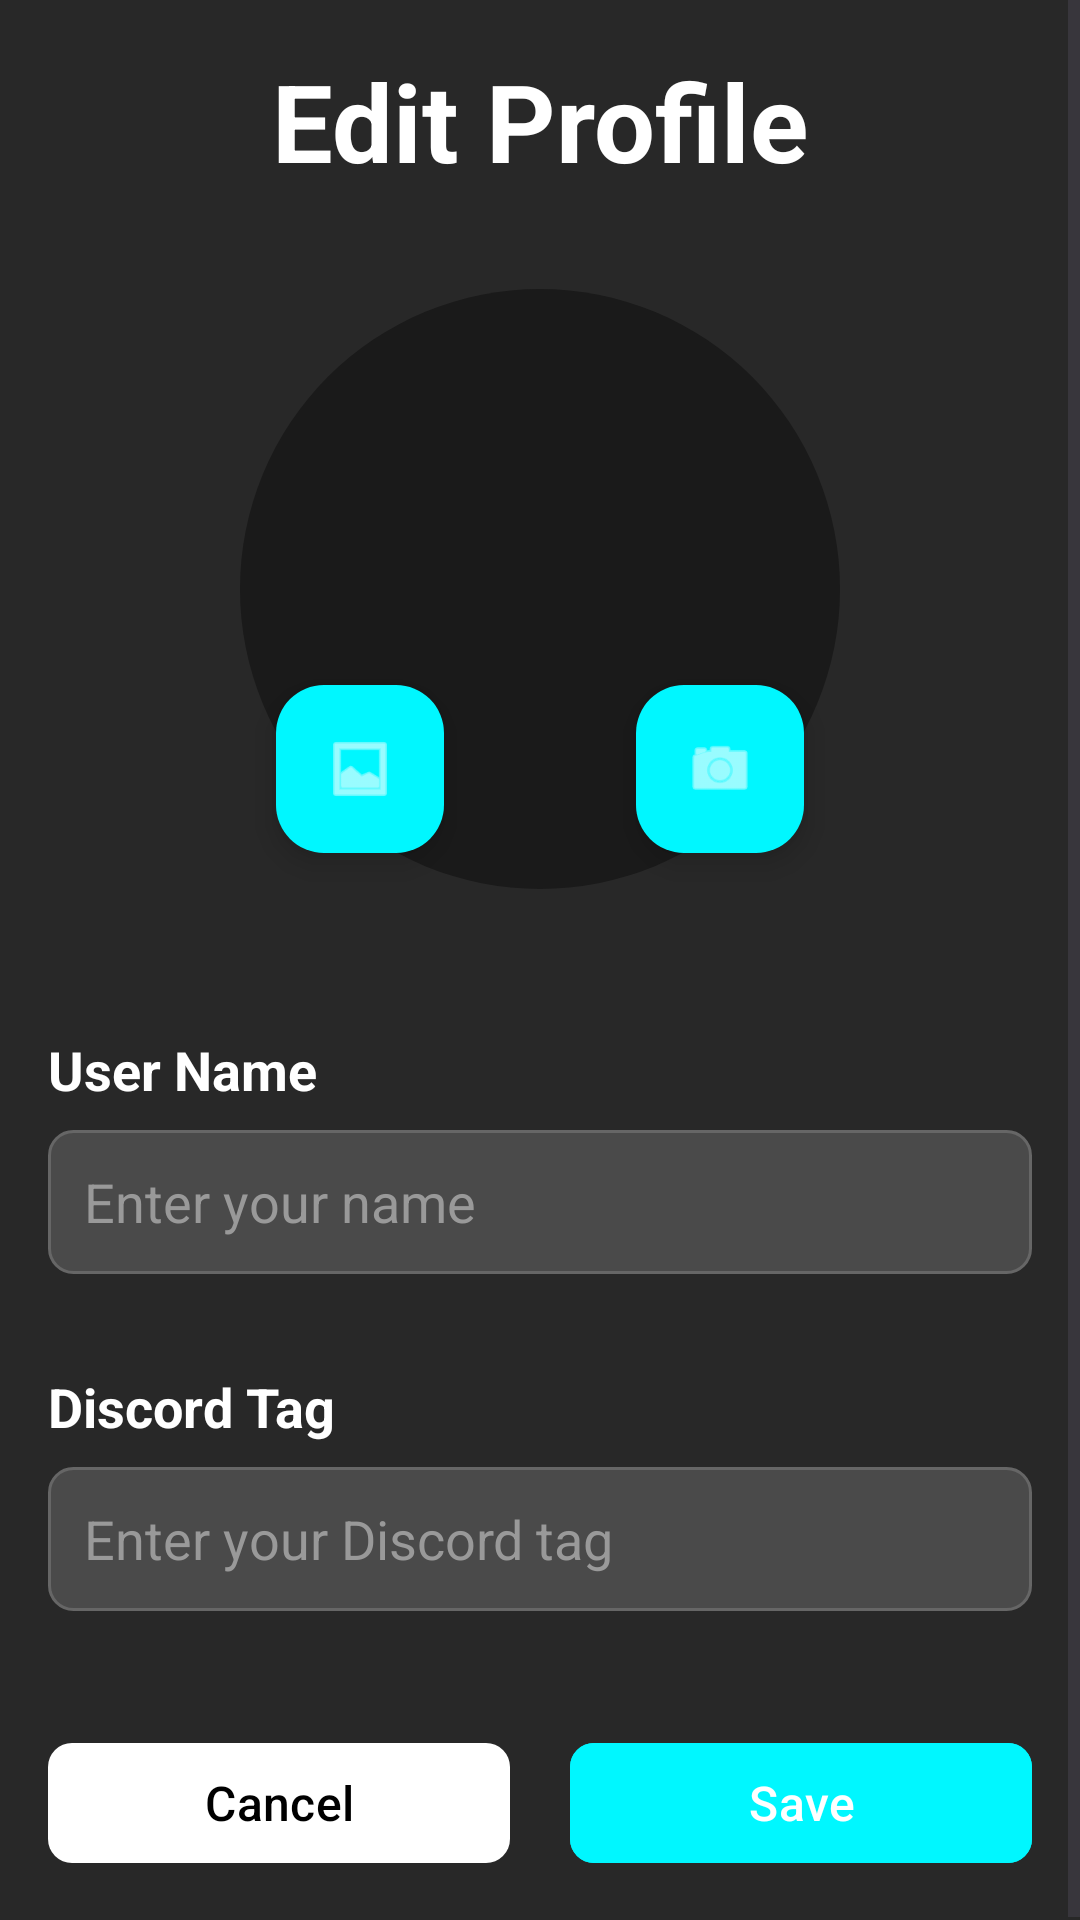

Icon bounding boxes for this 1080*1920 phone screenshot, format detection(x1, y1, x2, y2):
Camera: detection(636, 685, 804, 853)
Gallery: detection(276, 685, 444, 853)
